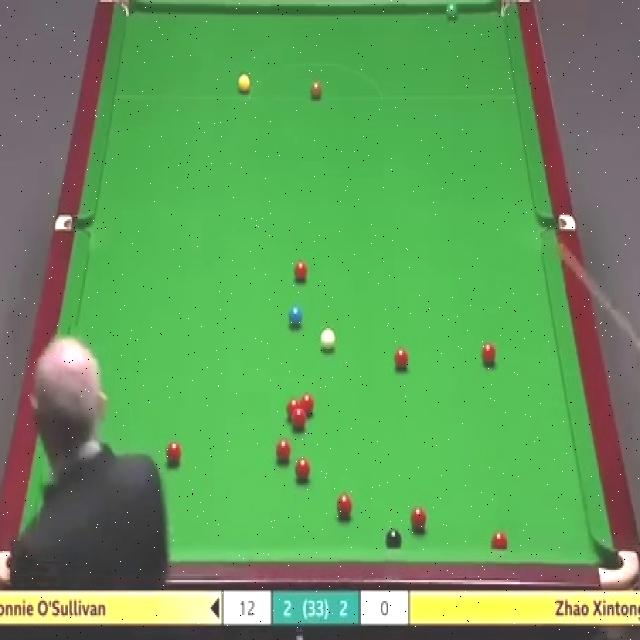black-ball: (384, 528, 402, 552)
blue-ball: (286, 306, 302, 331)
brown-ball: (308, 79, 323, 102)
green-ball: (445, 2, 461, 21)
red-ball: (393, 345, 411, 375), (334, 494, 352, 521), (294, 458, 311, 486), (409, 507, 426, 534), (166, 440, 182, 467), (275, 437, 291, 464), (293, 262, 310, 286), (481, 341, 496, 368), (300, 394, 315, 420), (492, 530, 508, 550), (292, 411, 306, 431), (287, 398, 300, 419)
white-ball: (320, 326, 338, 354)
yellow-ball: (236, 73, 250, 94)
